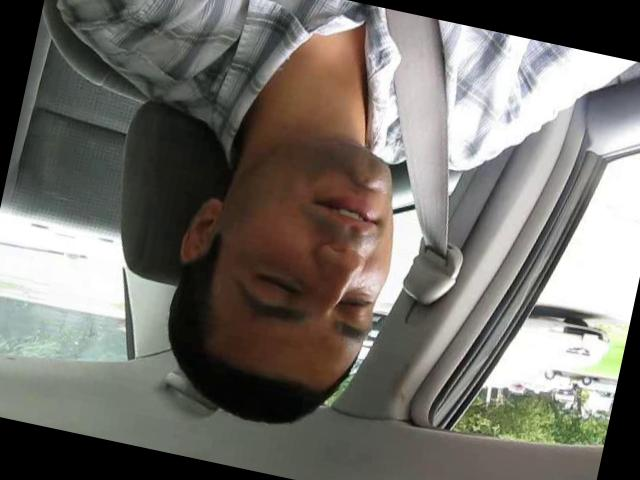eye_closed: (243, 265, 305, 306), (333, 285, 379, 323)
face: (219, 126, 419, 350)
